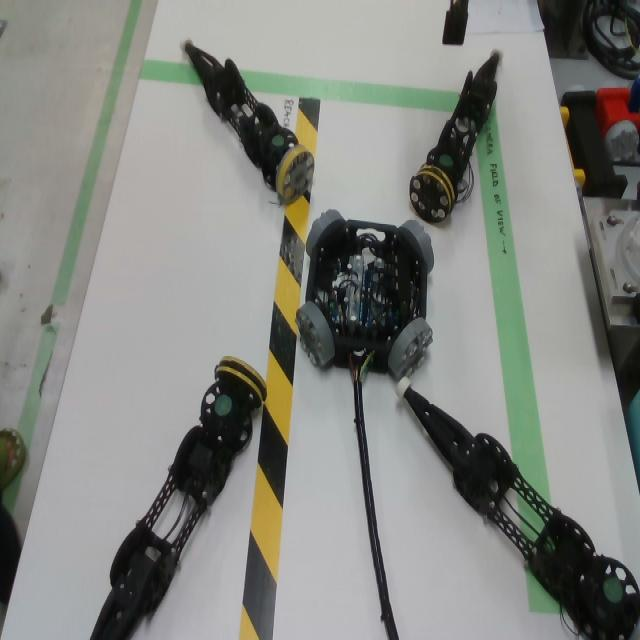body: (305, 219, 427, 371)
body_connector: (388, 317, 433, 380), (296, 301, 335, 369), (399, 220, 434, 275), (306, 209, 346, 257)
leg: (394, 376, 640, 640), (89, 356, 267, 640), (179, 36, 314, 203), (410, 47, 504, 224)
leg_connector: (409, 164, 456, 224), (214, 356, 267, 408), (276, 145, 315, 205), (629, 617, 640, 640)
leg_marker: (602, 576, 624, 604), (215, 395, 232, 417), (438, 153, 454, 168), (272, 135, 285, 147)
